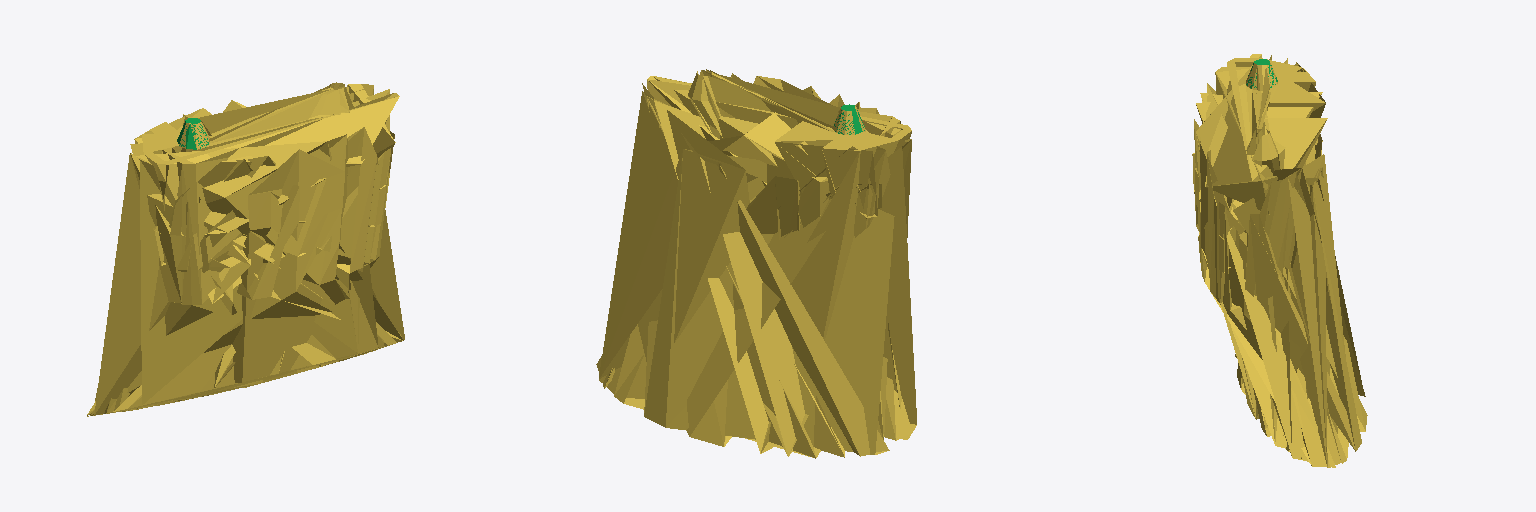
The model's file is cais.obj.
The picture shows the model from 3 angles: view 1: azimuth 30°, elevation 25°; view 2: azimuth 150°, elevation 25°; view 3: azimuth 270°, elevation 25°; orthographic projection.
Visible parts, largest first — view 1: Box001; view 2: Box001; view 3: Box001.
Boxes of the visible parts, x1,y1,x2,y2 form: Box001: [87, 82, 404, 416]; Box001: [596, 69, 916, 458]; Box001: [1192, 54, 1367, 467].
Size of the model in its own units: 21.57 by 21.07 by 10.51.